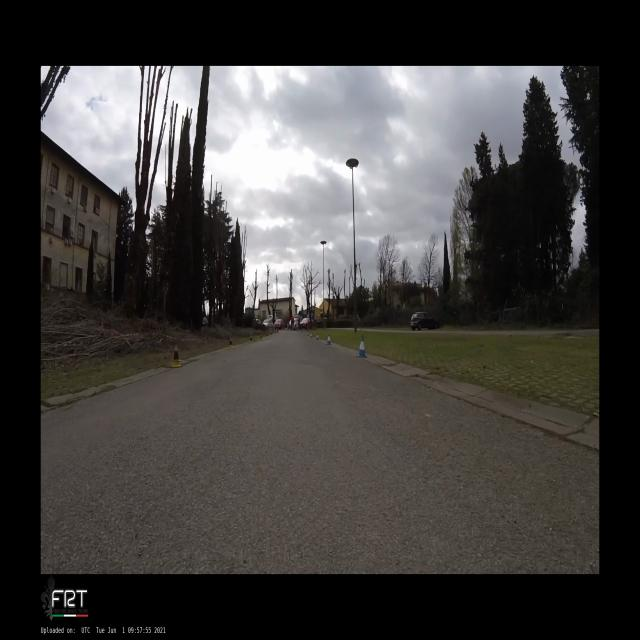blue_cone: (356, 335, 367, 358), (326, 333, 332, 345), (316, 332, 318, 340), (310, 332, 312, 338)
yellow_cone: (171, 345, 182, 367), (228, 338, 233, 350), (250, 334, 253, 342), (260, 334, 262, 339)
